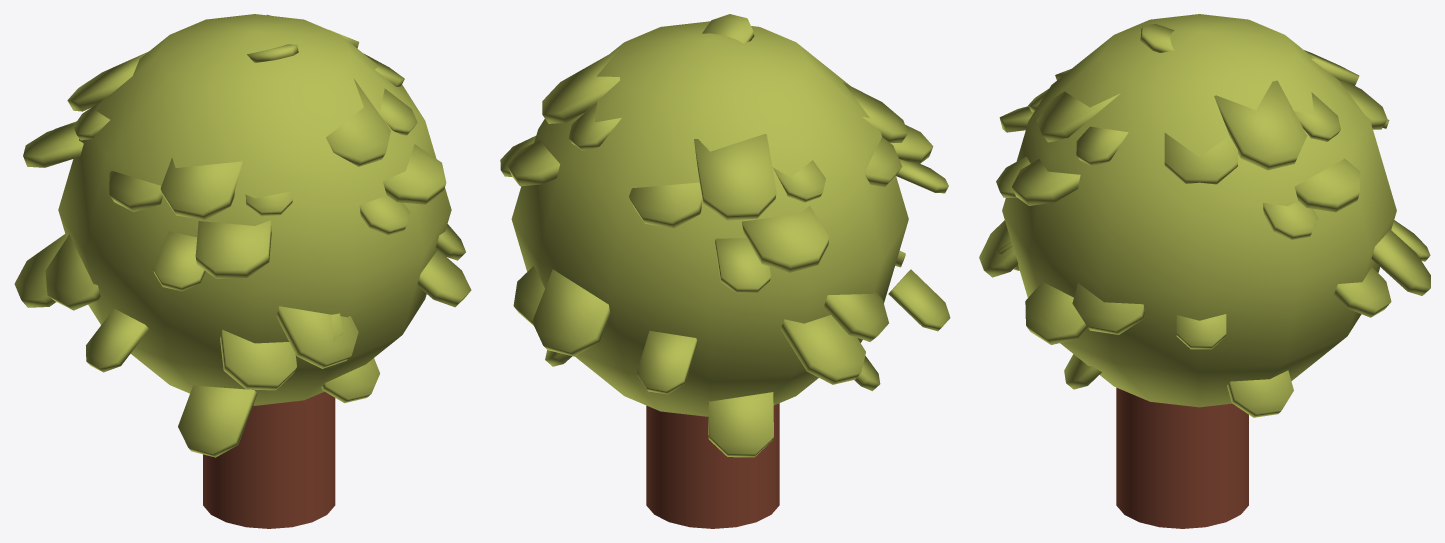
The model's file is Tree_small.fbx.
The picture shows the model from 3 angles, left to right: view 1: azimuth 30°, elevation 25°; view 2: azimuth 150°, elevation 25°; view 3: azimuth 270°, elevation 25°; orthographic projection.
Visible parts, largest first — view 1: Box004; view 2: Box004; view 3: Box004.
Boxes of the visible parts, x1,y1,x2,y2 form: Box004: (14, 14, 471, 528); Box004: (500, 14, 950, 528); Box004: (979, 14, 1430, 528).
Bounding box in the file's own units: 318 × 373 × 326.
